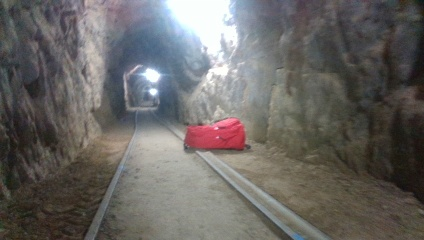backpack: (184, 117, 245, 151)
